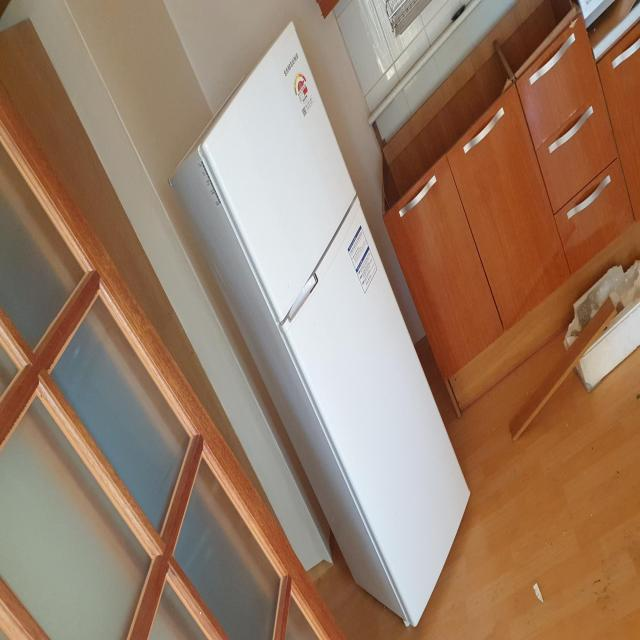refrigerator: (168, 21, 472, 632)
